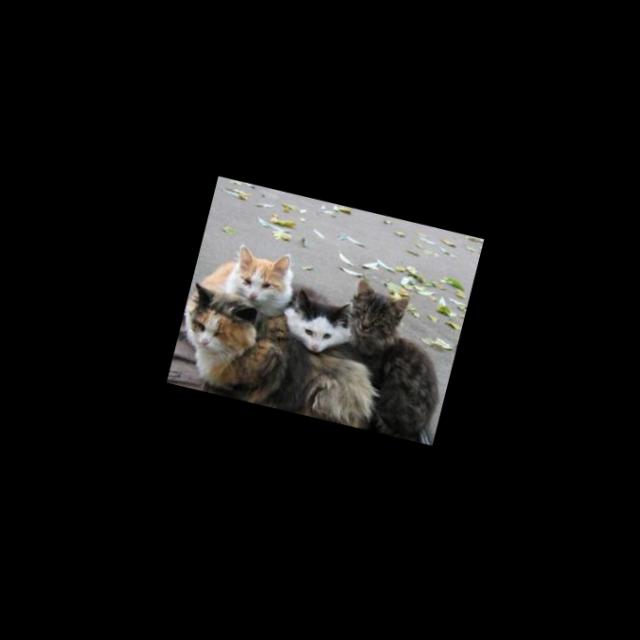animals: (170, 277, 279, 382), (334, 267, 423, 355), (216, 232, 306, 316), (275, 285, 363, 367)
